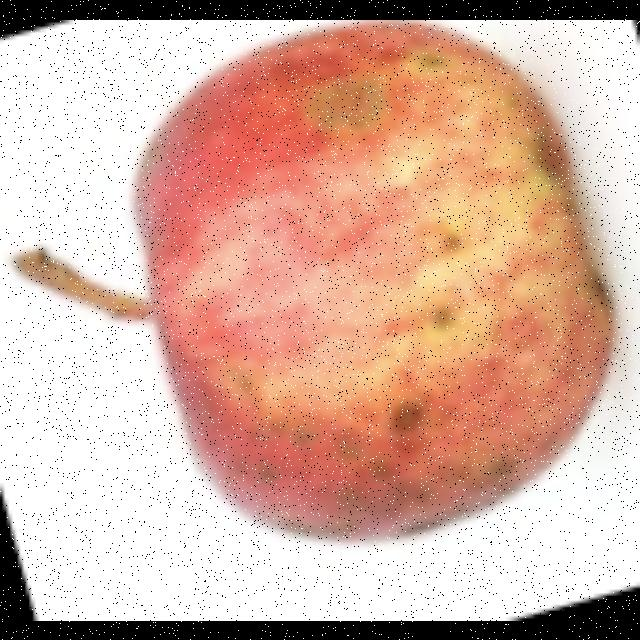Apel Segar: (132, 20, 618, 536)
